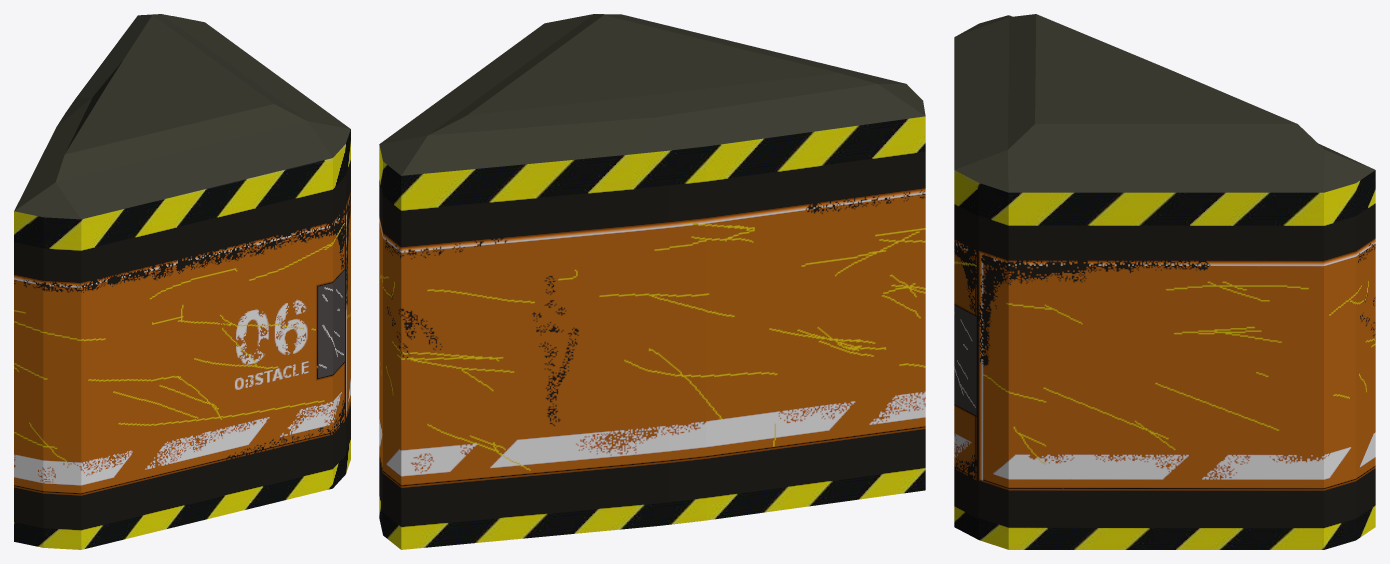
The model's file is triangulo_alto.fbx.
3 views of the same model, side by side, from view 1: azimuth 30°, elevation 25°; view 2: azimuth 150°, elevation 25°; view 3: azimuth 270°, elevation 25° (orthographic). The views are drawn at different scales.
Visible parts, largest first — view 1: Cube; view 2: Cube; view 3: Cube.
Boxes of the visible parts, <box> form: Cube: <box>14,14,350,549</box>; Cube: <box>379,14,925,549</box>; Cube: <box>954,14,1375,549</box>.
Size of the model in its own units: 2.13 by 2.27 by 2.14.
1 material, 1 textured.
